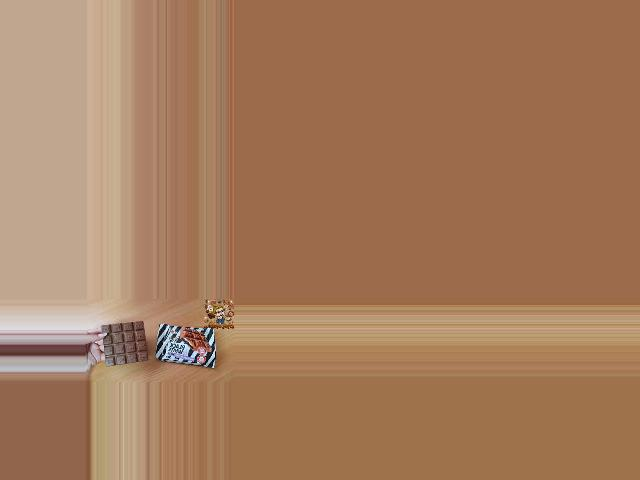chocolate: (153, 325, 218, 367)
